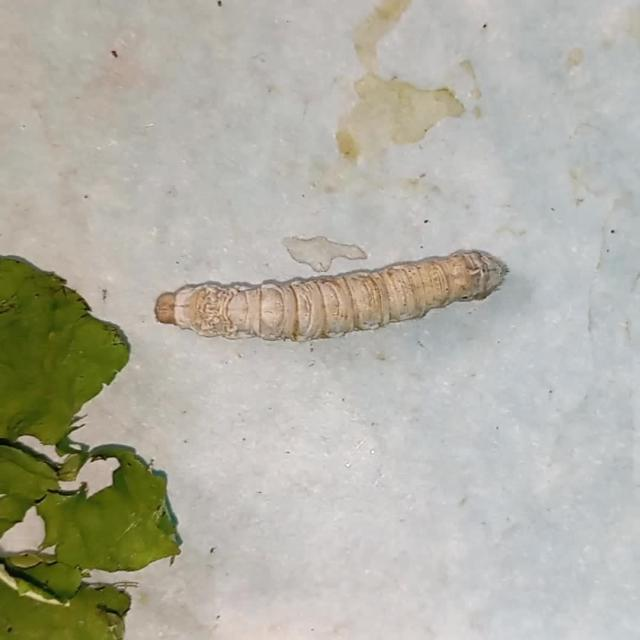Grasserie: (142, 246, 514, 348)
